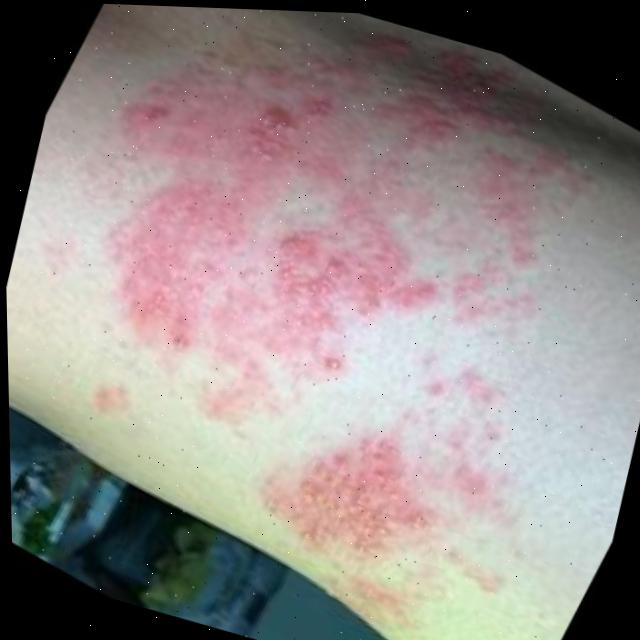Shingles: (28, 1, 597, 608)
